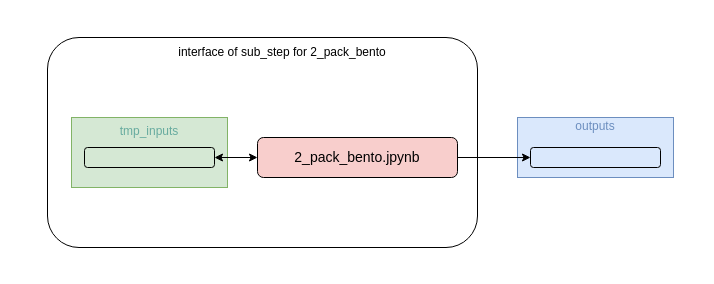
Image size: 714x284. Some labels were removed from this diagram. Each missing label, with the centre of its shape:
"bento_service" belongs at (595,157).
"cache_data" belongs at (149,157).
